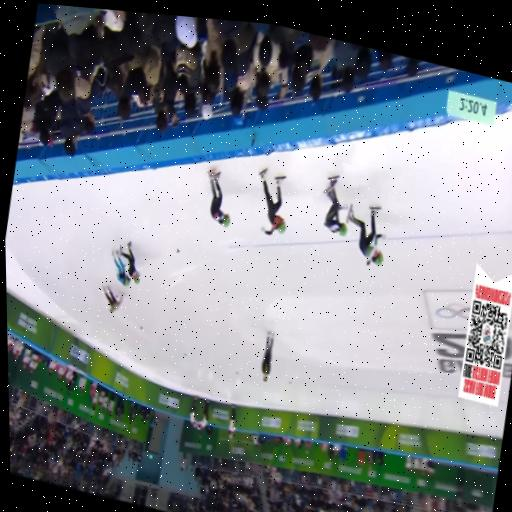Skater: (347, 205, 384, 264), (260, 169, 286, 234), (325, 176, 347, 235), (208, 169, 230, 226), (107, 247, 136, 288), (99, 283, 125, 316), (120, 242, 140, 283)
